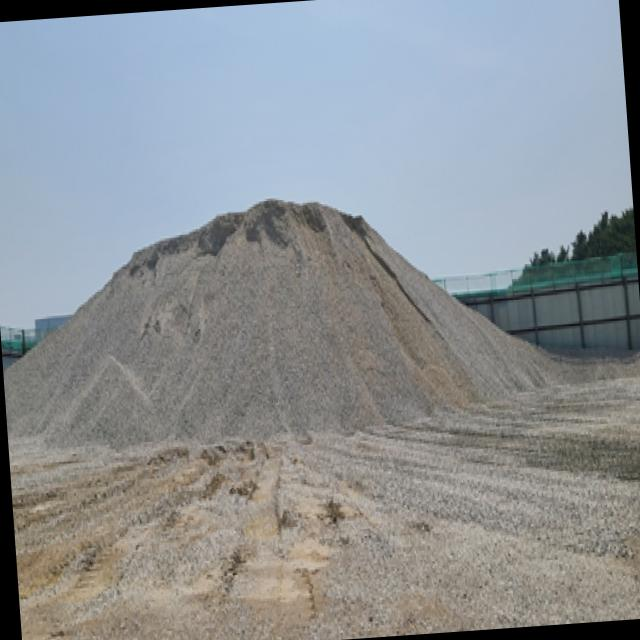white-sand: (3, 201, 640, 640)
